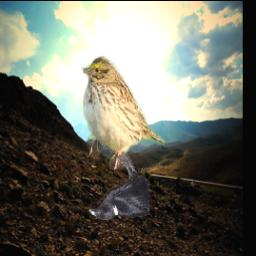Crow: (89, 152, 149, 221)
Sparrow: (79, 53, 166, 170)
